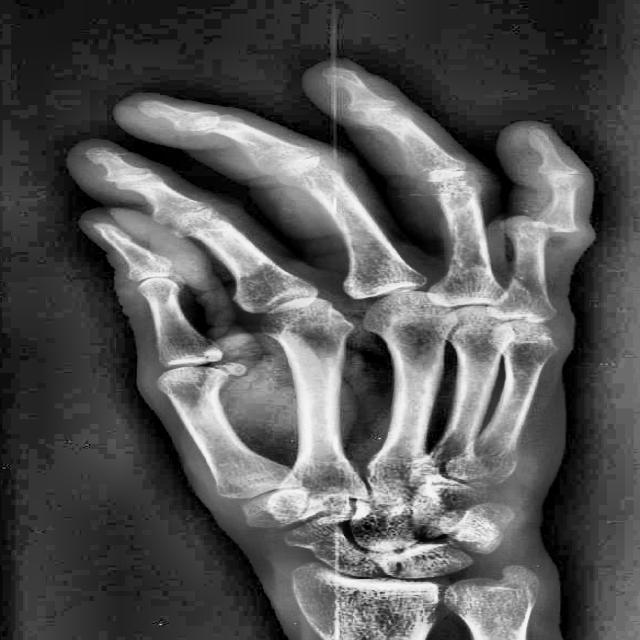fracture: (510, 213, 586, 244)
